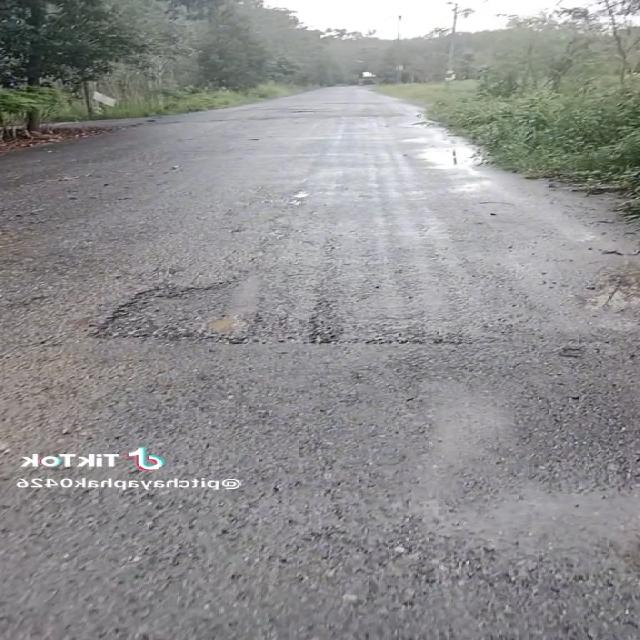Poth-hole: (31, 225, 380, 413)
